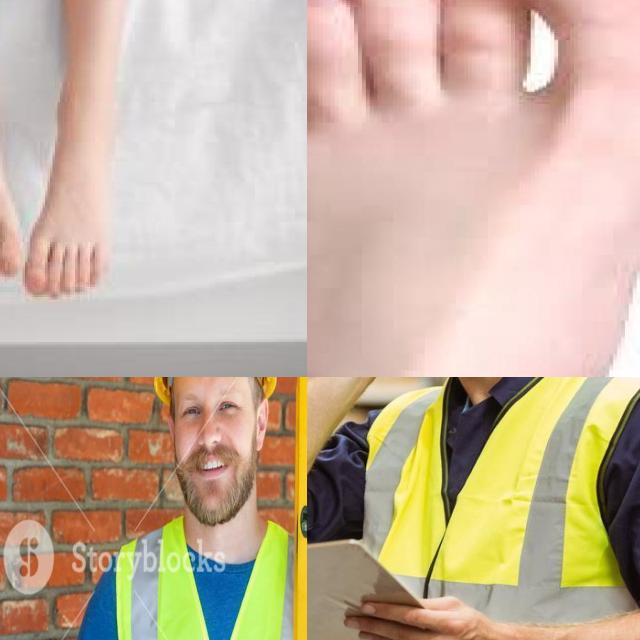Barefoots: (307, 0, 640, 377), (15, 80, 130, 309), (0, 107, 32, 290)
No_Ear-Protection: (254, 395, 270, 453)
face_nomask: (162, 377, 267, 509)
hand_noglove: (369, 560, 517, 640)
person: (307, 377, 640, 640), (47, 377, 307, 640)
vest: (347, 377, 640, 640), (101, 521, 307, 640)
